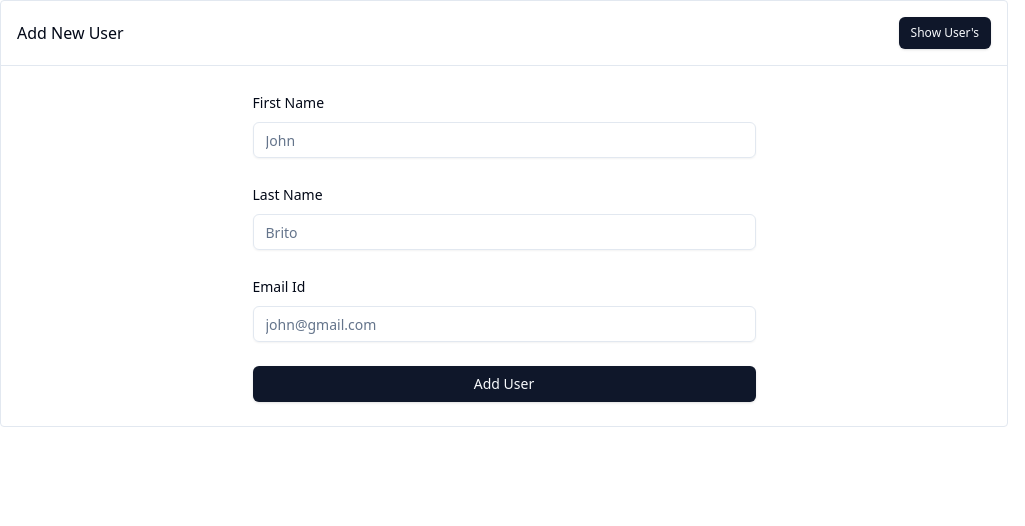
Add User Page › should render error message when email is not valid
Step 1. Type "testgmail.com" into the field with placeholder "john@gmail.com" → (504, 324), box [252,306,756,342]
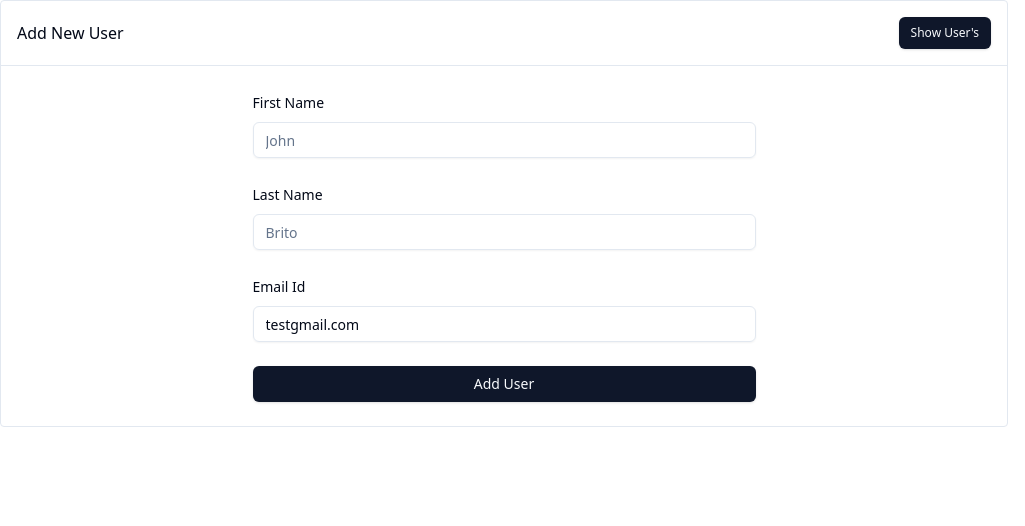
Step 2. Click the button "Add User" → (504, 384), box [252,366,756,402]
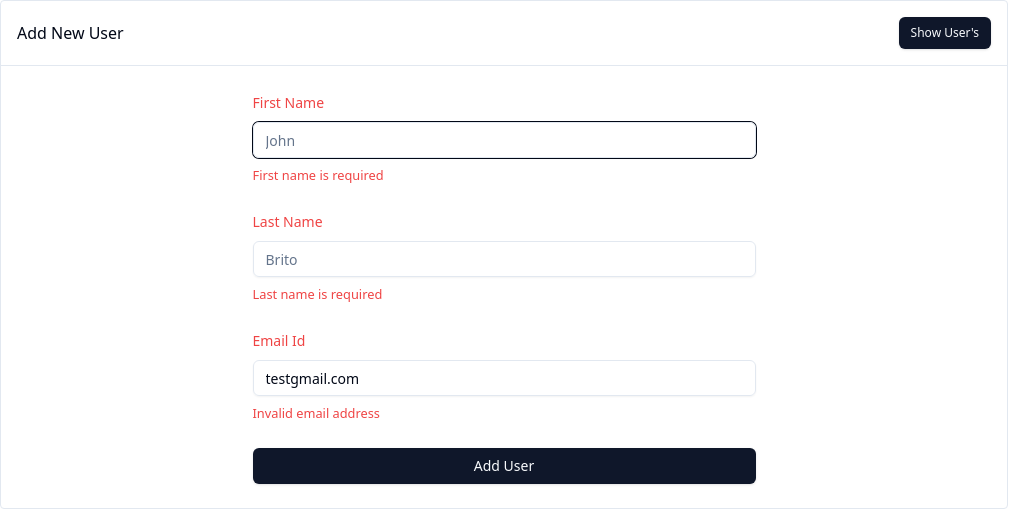
Now the text "Invalid email address" is shown, box [252,404,380,422]
